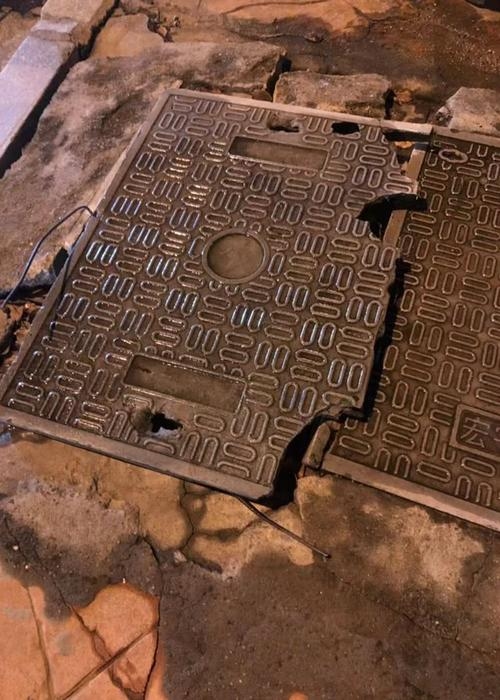broke: (12, 57, 490, 586)
